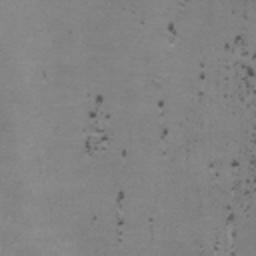Oxide scale of temperature system: (88, 94, 104, 119), (241, 63, 256, 88), (230, 159, 241, 190), (116, 190, 125, 226), (167, 22, 178, 36), (234, 34, 246, 46), (84, 137, 92, 155), (225, 213, 236, 225), (160, 127, 169, 140)
